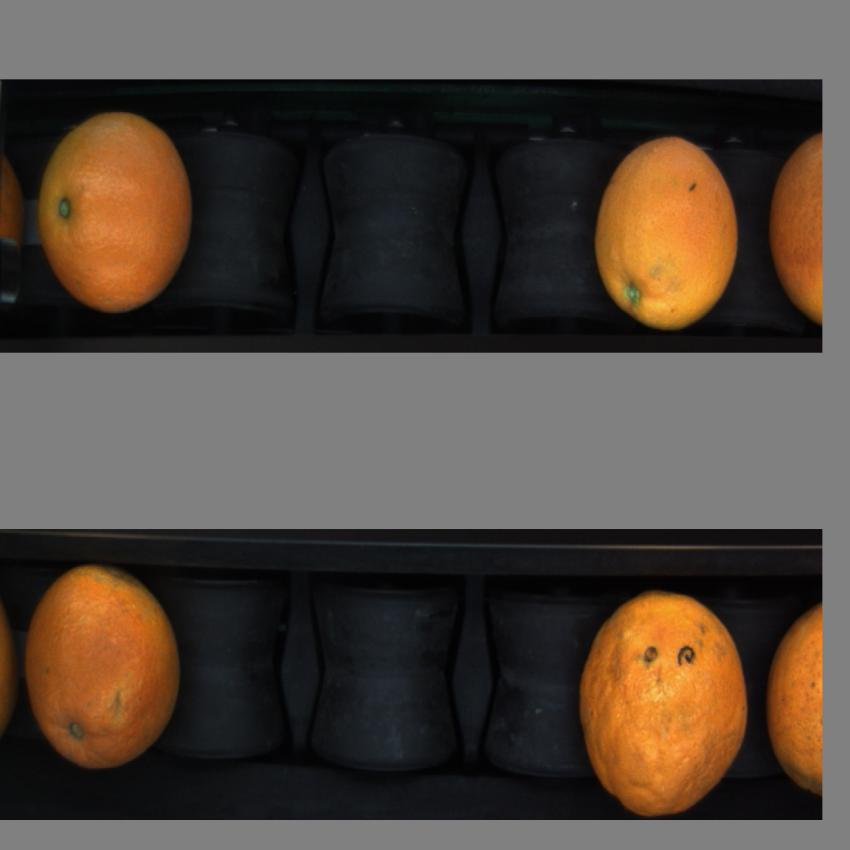Buen estado: (23, 549, 202, 781), (574, 588, 755, 816), (37, 101, 197, 321), (592, 115, 743, 336), (758, 584, 824, 792)
Mal estado: (762, 126, 824, 327)
